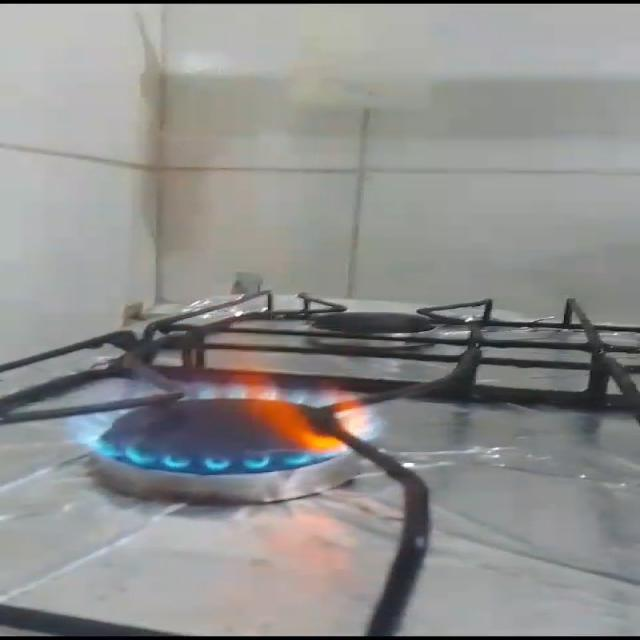fogo-ypXI: (59, 337, 389, 477)
